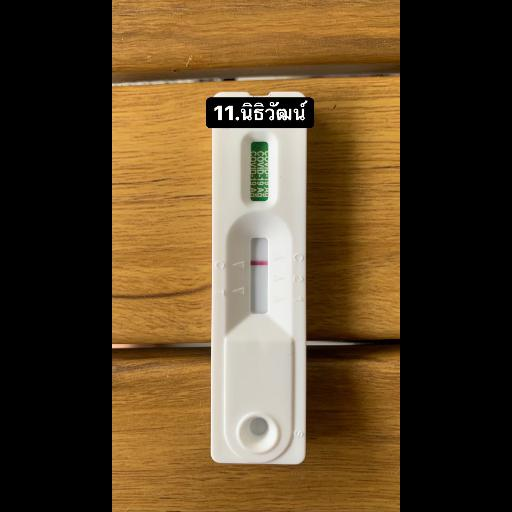Neg: (212, 90, 304, 464)
